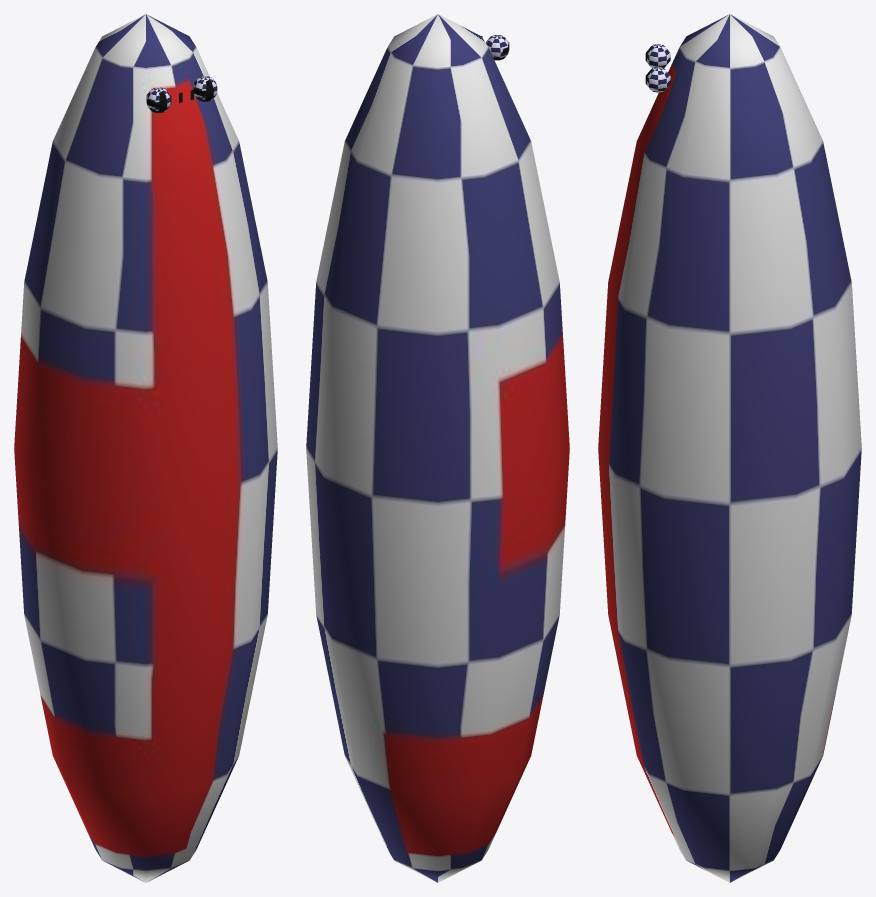
The picture shows the model from 3 angles, left to right: view 1: azimuth 30°, elevation 25°; view 2: azimuth 150°, elevation 25°; view 3: azimuth 270°, elevation 25°; orthographic projection.
Parts seen in each view (by area): view 1: body, eyeL; view 2: body; view 3: body, eyeR.
Part boxes in pixels (box(x1,y1,x2,y2)): body: box(14, 14, 277, 882); eyeL: box(146, 87, 170, 112); body: box(306, 14, 569, 882); body: box(598, 14, 861, 882); eyeR: box(645, 67, 670, 92).
Bounding box in the file's own units: 0.44 × 1.6 × 0.44.
Materials: 3 (3 with a texture image).
